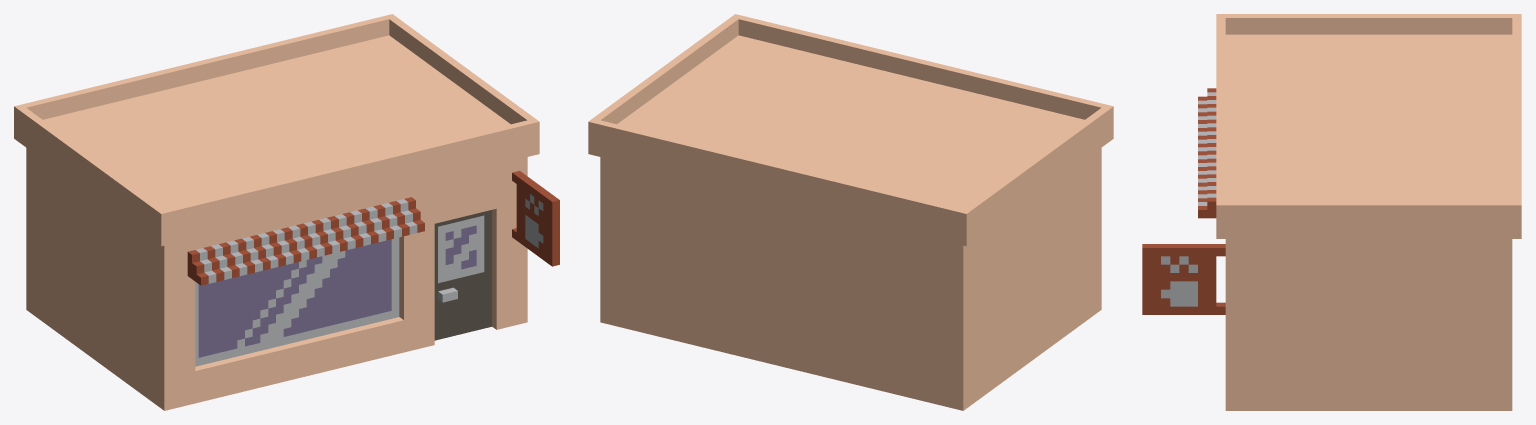
The model's file is coffee_shop_b.obj.
3 views of the same model, side by side, from view 1: azimuth 30°, elevation 25°; view 2: azimuth 150°, elevation 25°; view 3: azimuth 270°, elevation 25° (orthographic). The views are drawn at different scales.
Size of the model in its own units: 4.9 by 2.5 by 4.1.
1 material, 1 textured.
